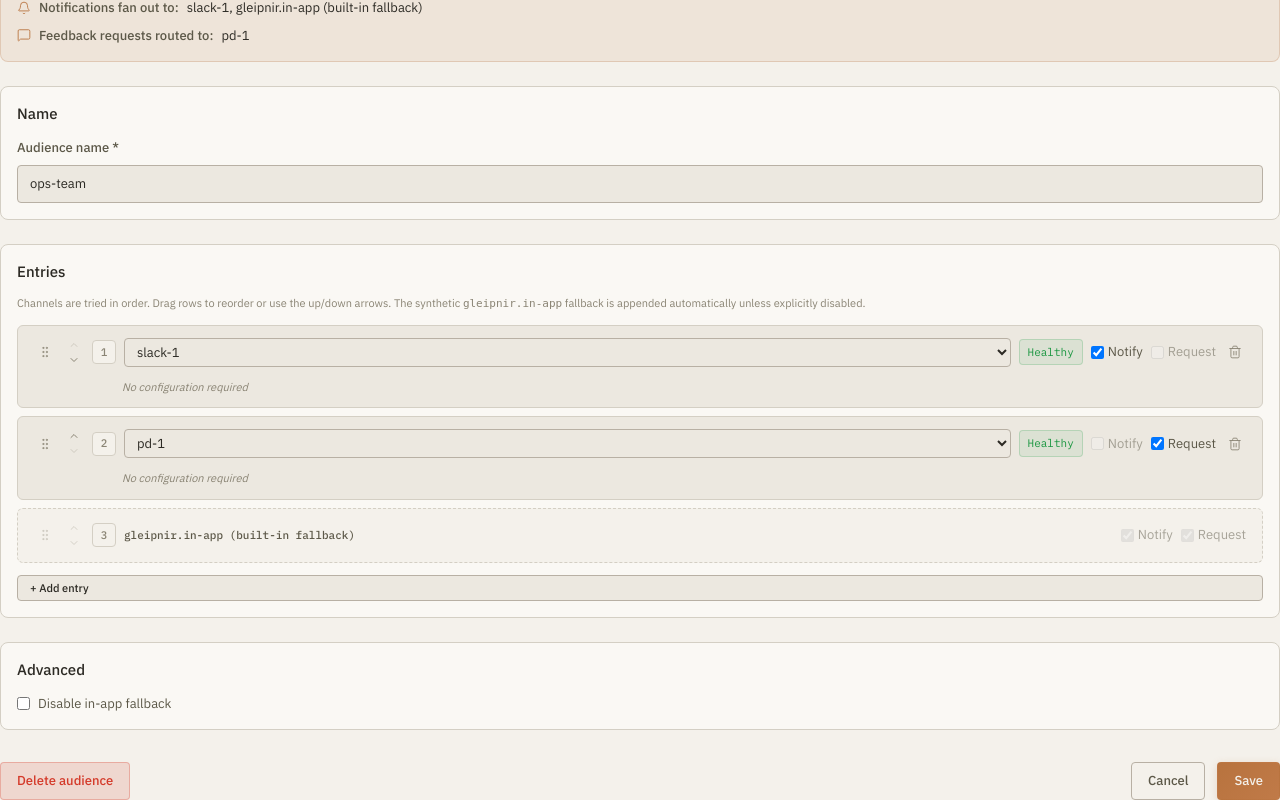
AudienceEditor — SaveGuardDialog opens conditionally › shows SaveGuardDialog when references has policies
(page scrolled)
Click the button "Save".
click(1249, 781)  # box x1=1217 y1=762 x2=1279 y2=799
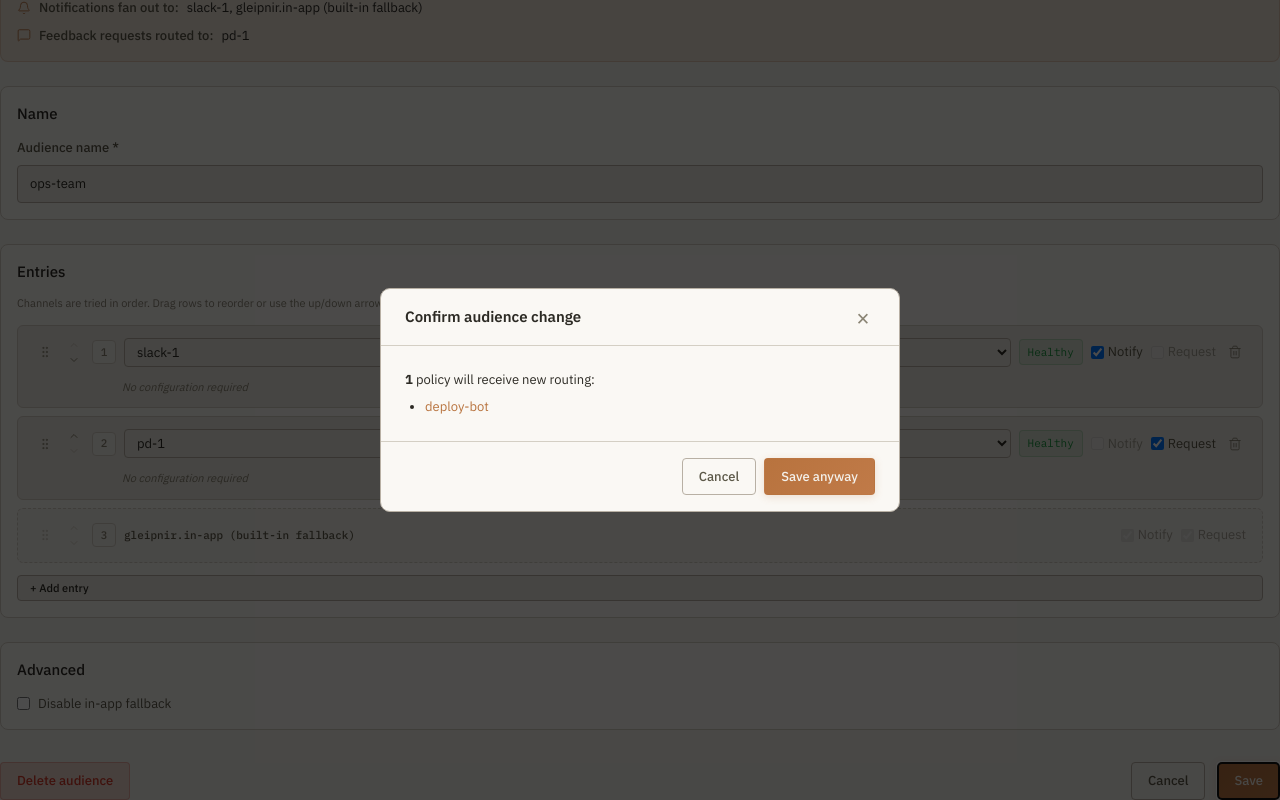
Result: the dialog is shown at x1=380 y1=288 x2=900 y2=512
